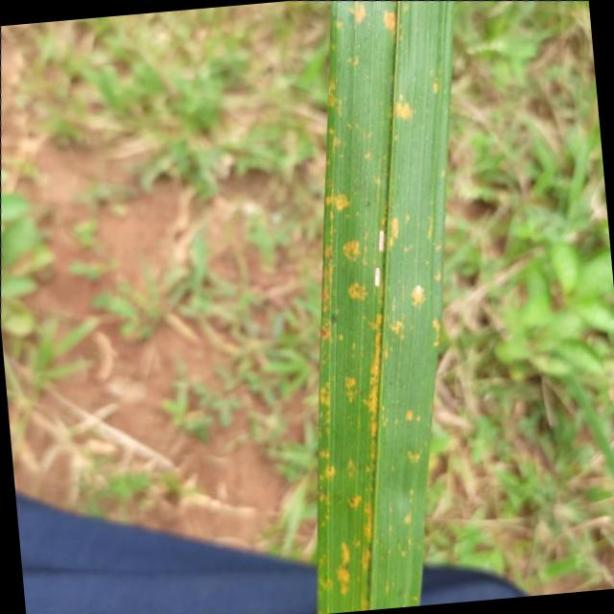Kalium: (312, 0, 456, 610)
